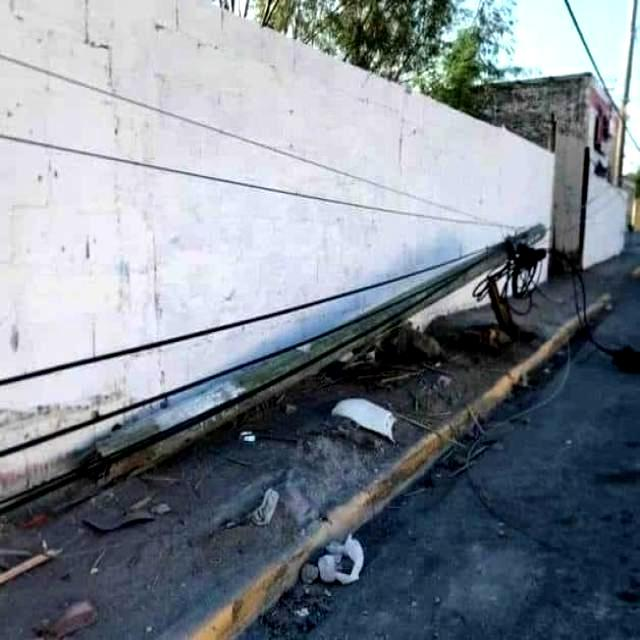Broken Pole: (80, 222, 548, 483)
